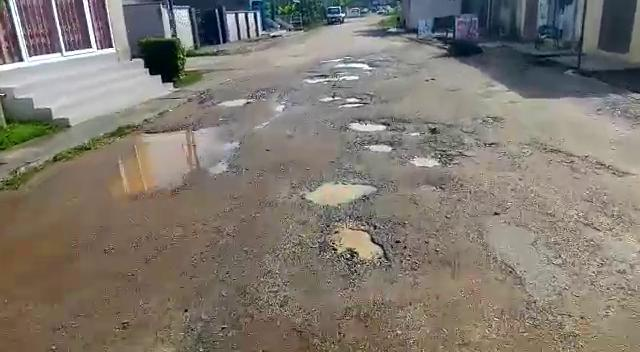pothole: (106, 131, 245, 204), (316, 217, 399, 272), (297, 178, 379, 209), (405, 151, 459, 167), (342, 118, 392, 133), (319, 94, 367, 108), (303, 72, 361, 83), (361, 140, 398, 152), (219, 99, 253, 107)
